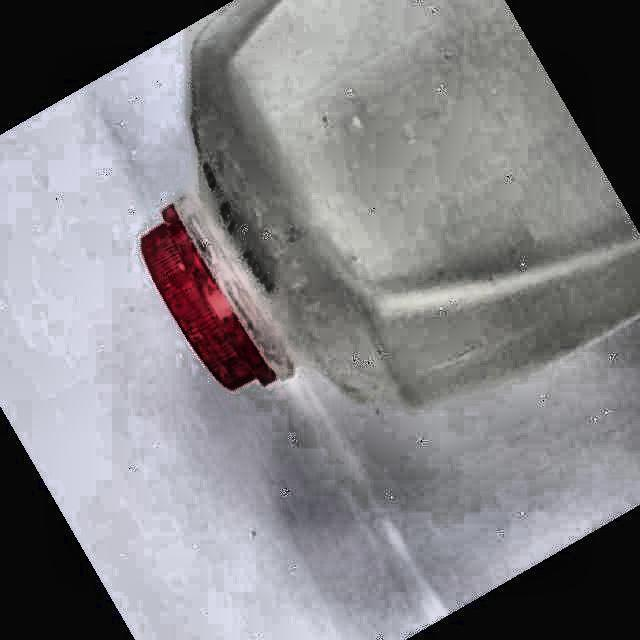plastic: (141, 0, 640, 407)
